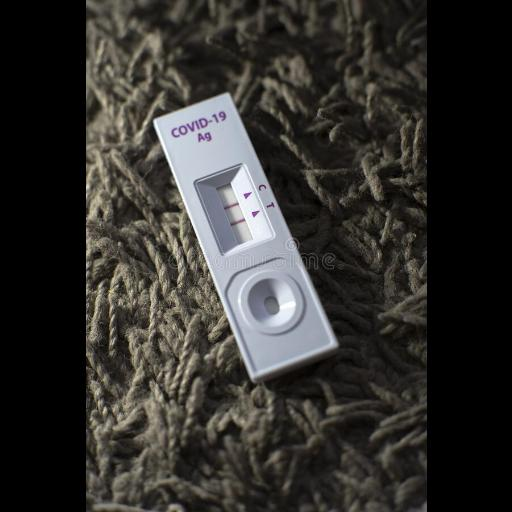Pos: (151, 92, 336, 378)
